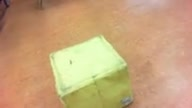cube: (49, 34, 133, 108)
